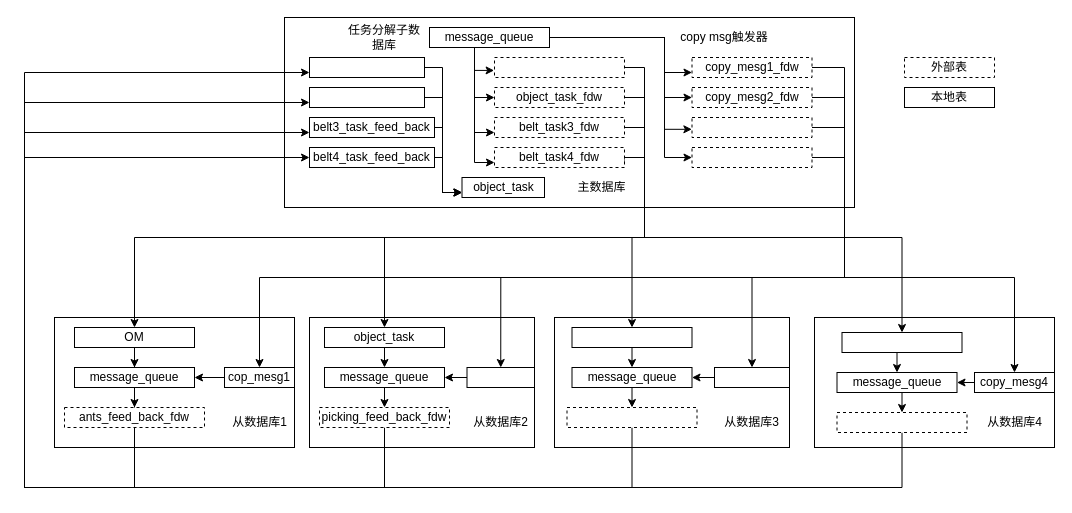
This 1072x513 diagram has some shape labels left out. Here are the shapes that lost their labels. From the top down, the box of each, then its label:
(308, 56, 424, 78): ants_task_feed_back
(494, 56, 624, 78): om_fdw
(308, 86, 424, 108): pick_task_feed_back
(691, 116, 812, 138): copy_mesg3_fdw
(691, 146, 812, 168): copy_mesg4_fdw
(571, 326, 692, 348): belt_task3
(841, 332, 962, 352): belt_task4
(466, 366, 534, 388): copy_mesg2
(714, 366, 790, 388): copy_mesg3
(566, 406, 697, 428): belt3_feed_back_fdw
(836, 412, 967, 432): belt4_feed_back_fdw
